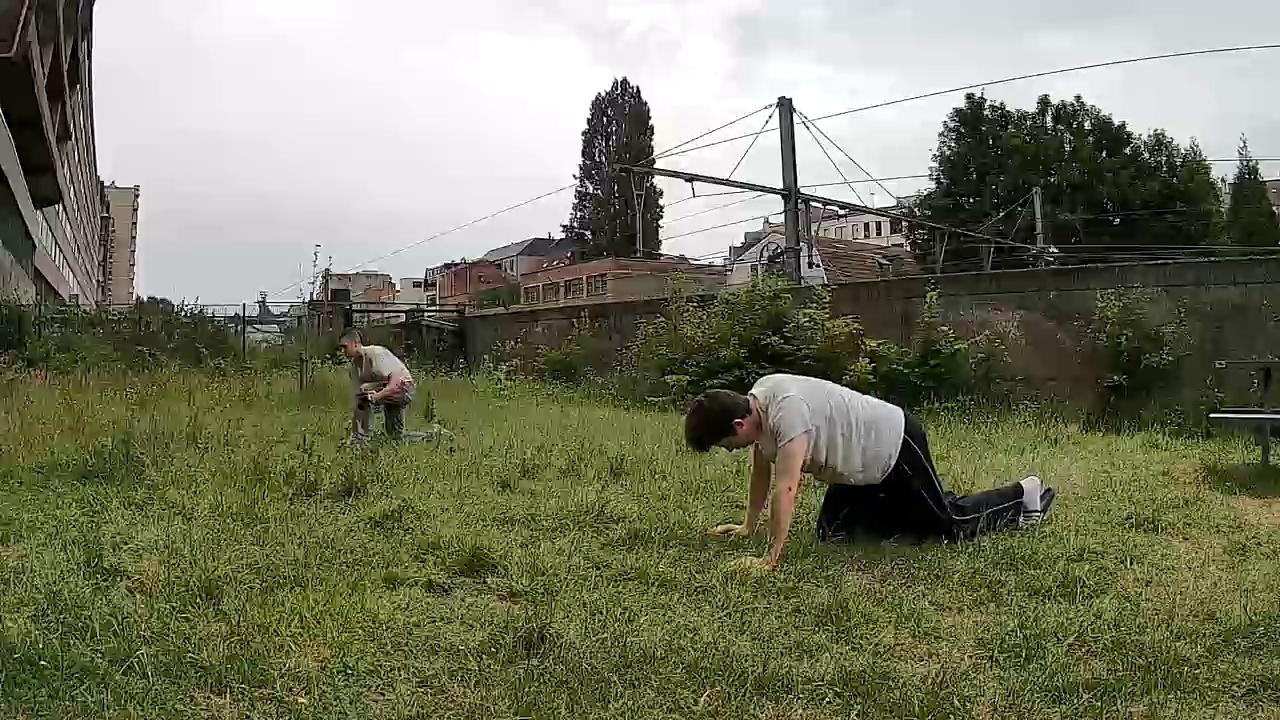korban: (663, 365, 1059, 579), (329, 324, 427, 450)
